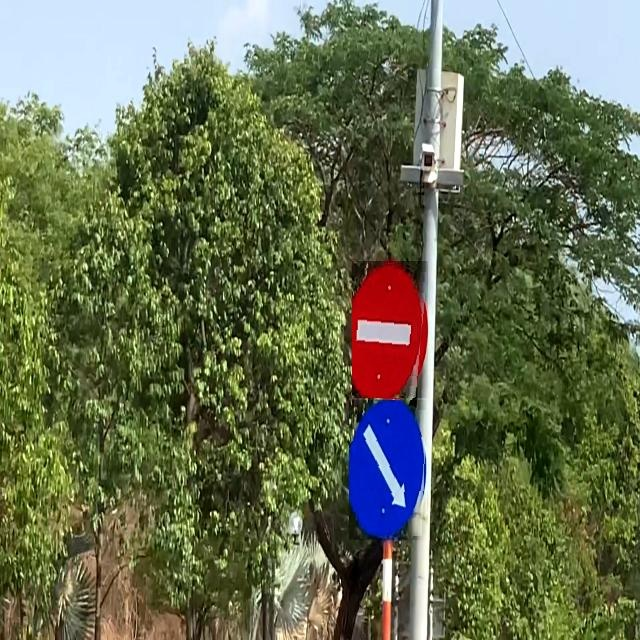bien_hieu_lenh: (349, 400, 427, 540), (352, 261, 428, 398)
